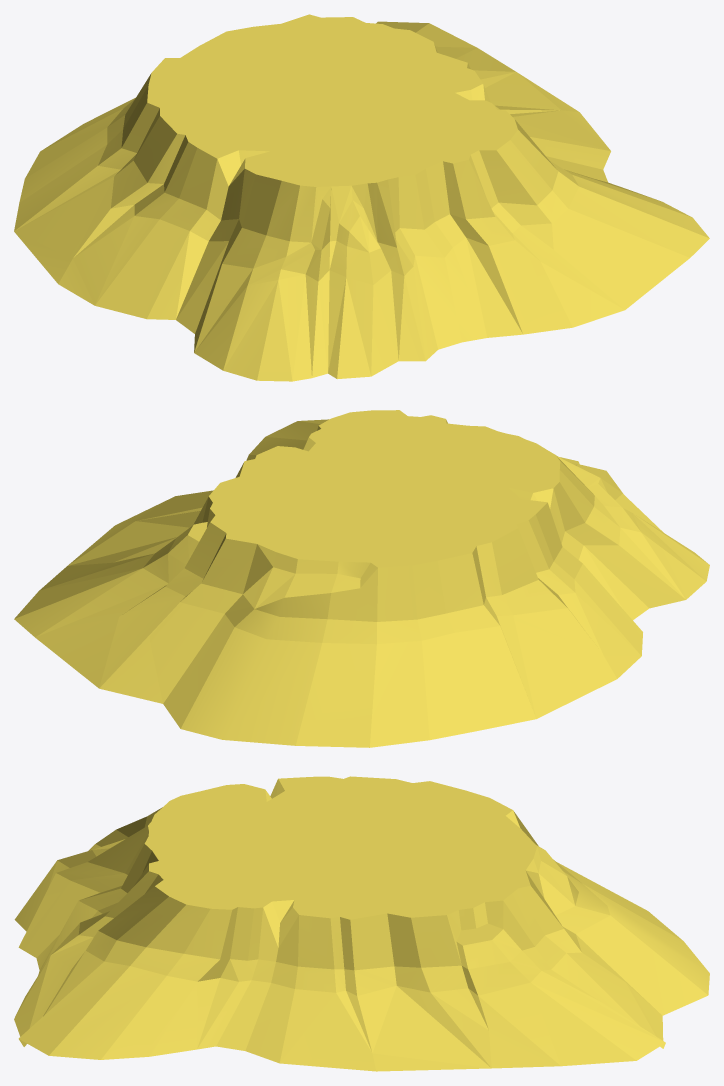
File: islands_07.FBX
The picture shows the model from 3 angles, top to bottom: view 1: azimuth 30°, elevation 25°; view 2: azimuth 150°, elevation 25°; view 3: azimuth 270°, elevation 25°; orthographic projection. The views are drawn at different scales.
Parts seen in each view (by area): view 1: Islands_07; view 2: Islands_07; view 3: Islands_07.
Boxes of the visible parts, x1,y1,x2,y2 form: Islands_07: (14, 14, 709, 381); Islands_07: (14, 410, 709, 747); Islands_07: (14, 776, 709, 1071).
Size of the model in its own units: 7934 by 1842 by 8969.
